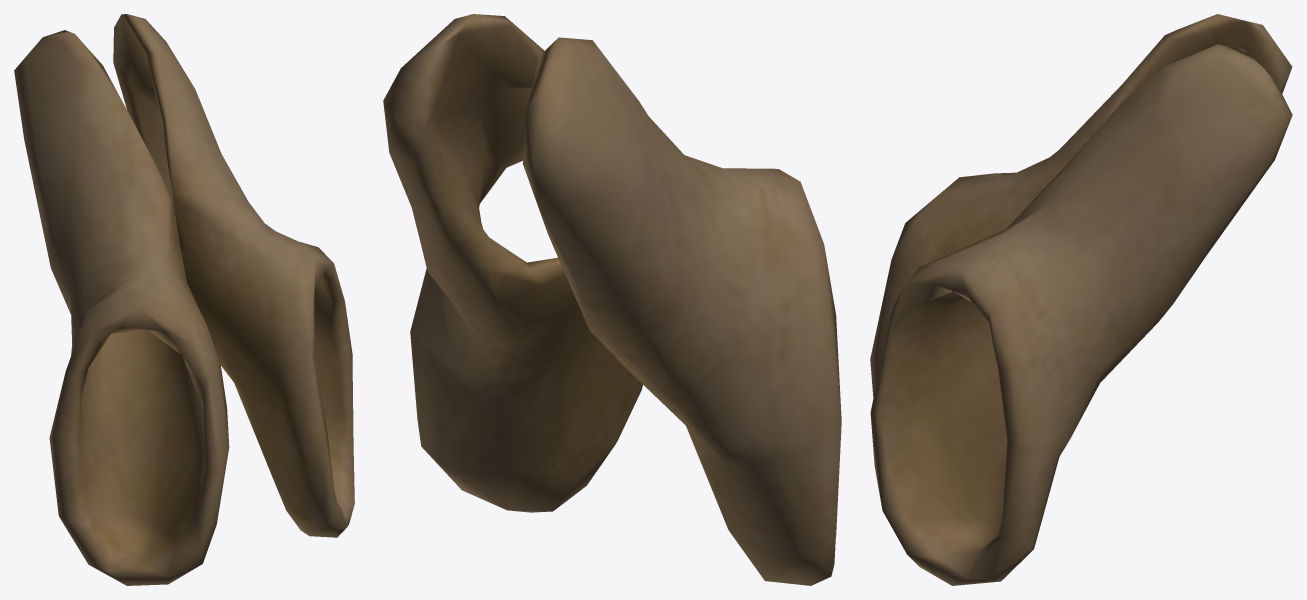
File: Nares.glb
3 views of the same model, side by side, from view 1: azimuth 30°, elevation 25°; view 2: azimuth 150°, elevation 25°; view 3: azimuth 270°, elevation 25° (orthographic). The views are drawn at different scales.
Parts seen in each view (by area): view 1: nares.002; view 2: nares.002; view 3: nares.002.
Part boxes in pixels (x1,y1,x2,y2): nares.002: [14, 14, 354, 585]; nares.002: [383, 14, 841, 585]; nares.002: [870, 14, 1292, 585].
Bounding box in the file's own units: 0.1092 × 0.1599 × 0.1207.
1 material, 1 textured.
